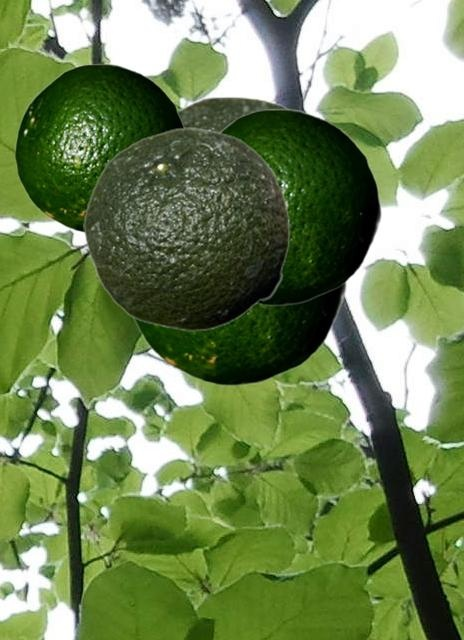calamansi: (83, 127, 289, 330), (218, 108, 381, 305), (14, 63, 186, 233), (129, 283, 346, 385), (178, 96, 290, 130)
